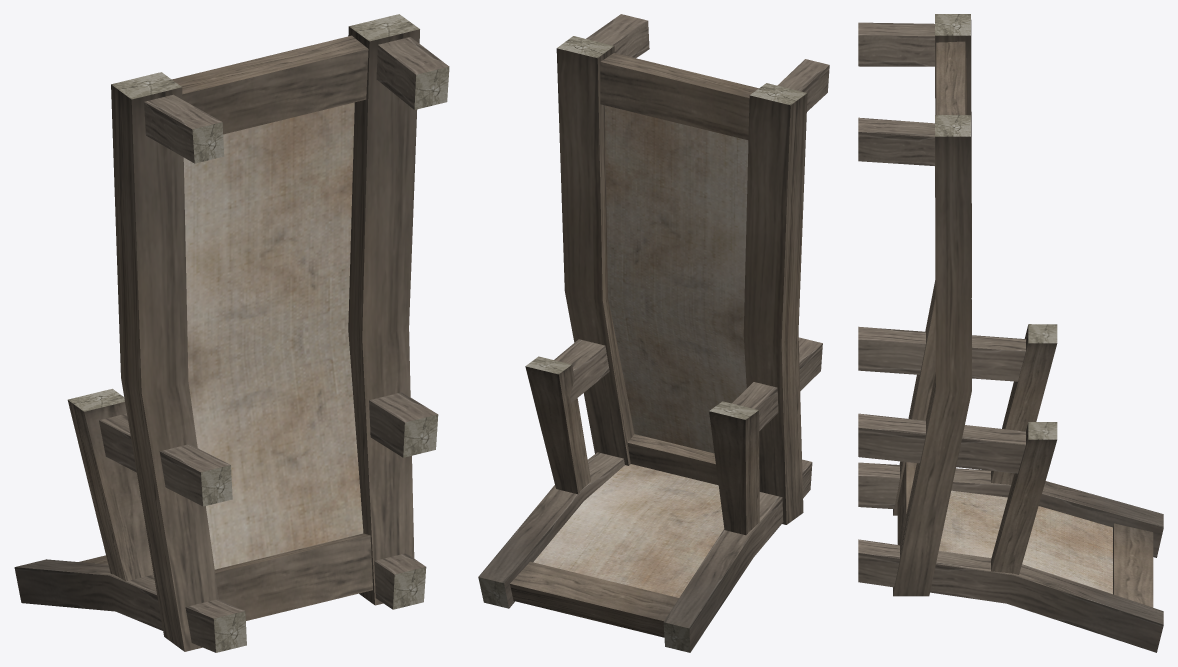
Rendered from LongChair_Type_02_B.fbx.
3 views of the same model, side by side, from view 1: azimuth 30°, elevation 25°; view 2: azimuth 150°, elevation 25°; view 3: azimuth 270°, elevation 25° (orthographic). The views are drawn at different scales.
Parts seen in each view (by area): view 1: LongChair_Type_02_B; view 2: LongChair_Type_02_B; view 3: LongChair_Type_02_B.
Part boxes in pixels (left/top/right/bottom): LongChair_Type_02_B: left=14, top=14, right=449, bottom=652; LongChair_Type_02_B: left=478, top=14, right=829, bottom=652; LongChair_Type_02_B: left=858, top=14, right=1163, bottom=652.
Bounding box in the file's own units: 1.12 × 2.24 × 1.18.
